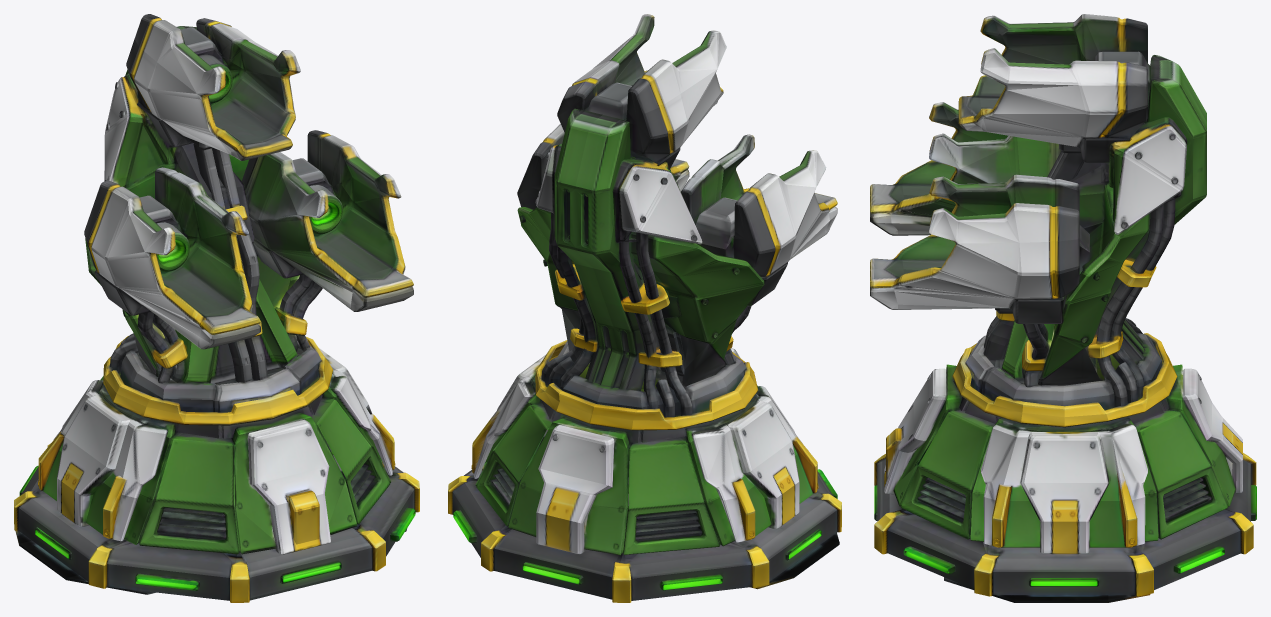
Rendered from Modle_Tower_Intercept.fbx.
3 views of the same model, side by side, from view 1: azimuth 30°, elevation 25°; view 2: azimuth 150°, elevation 25°; view 3: azimuth 270°, elevation 25° (orthographic). The views are drawn at different scales.
Visible parts, largest first — view 1: Tower_Intercept_Head, Tower_Intercept_Base; view 2: Tower_Intercept_Head, Tower_Intercept_Base; view 3: Tower_Intercept_Head, Tower_Intercept_Base.
Boxes of the visible parts, x1,y1,x2,y2 form: Tower_Intercept_Head: [84, 14, 413, 425]; Tower_Intercept_Base: [14, 348, 419, 602]; Tower_Intercept_Head: [517, 14, 837, 430]; Tower_Intercept_Base: [448, 348, 841, 602]; Tower_Intercept_Head: [870, 14, 1206, 427]; Tower_Intercept_Base: [874, 364, 1256, 602].
Bounding box in the file's own units: 1.81 × 2.42 × 1.74.
